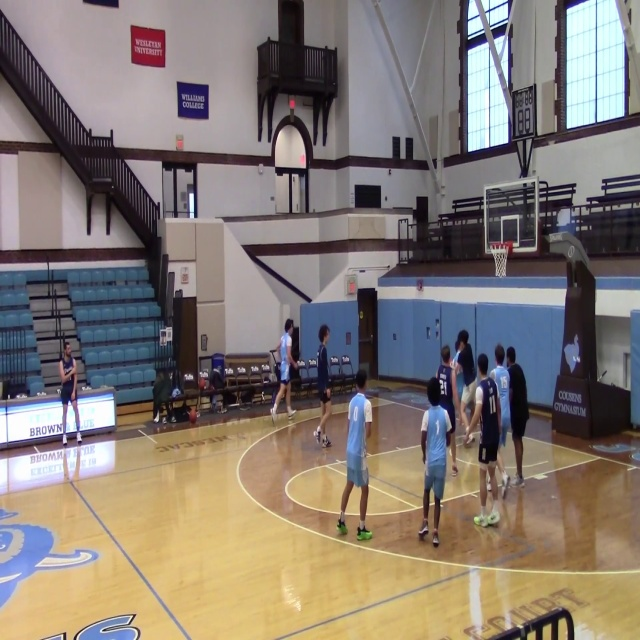Basketball: (189, 410, 198, 423), (288, 98, 296, 109)
